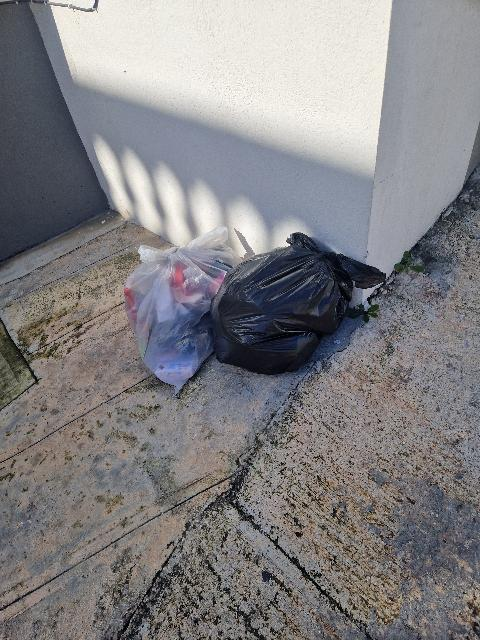Mixed -Black-: (211, 233, 386, 374)
Recyclable -Grey-: (124, 226, 241, 393)
